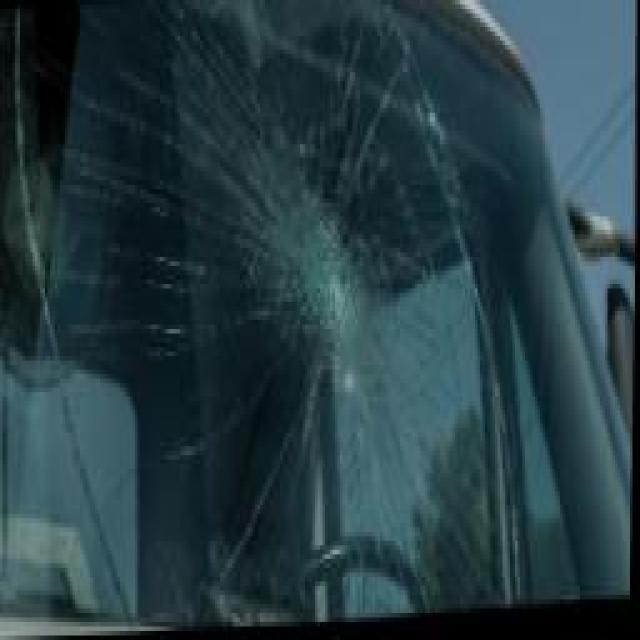Windshield: (0, 0, 625, 622)
